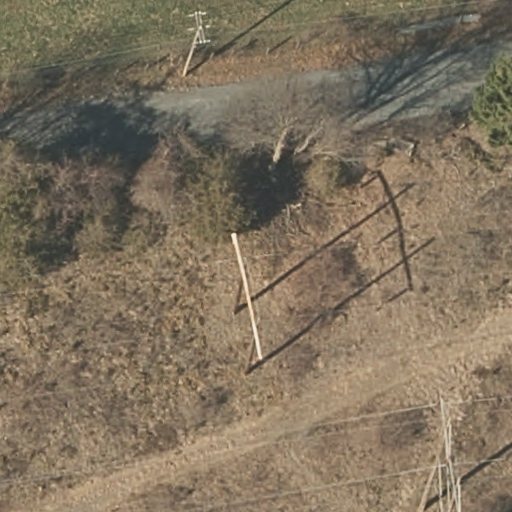DT: (231, 230, 264, 364), (185, 10, 212, 46)
